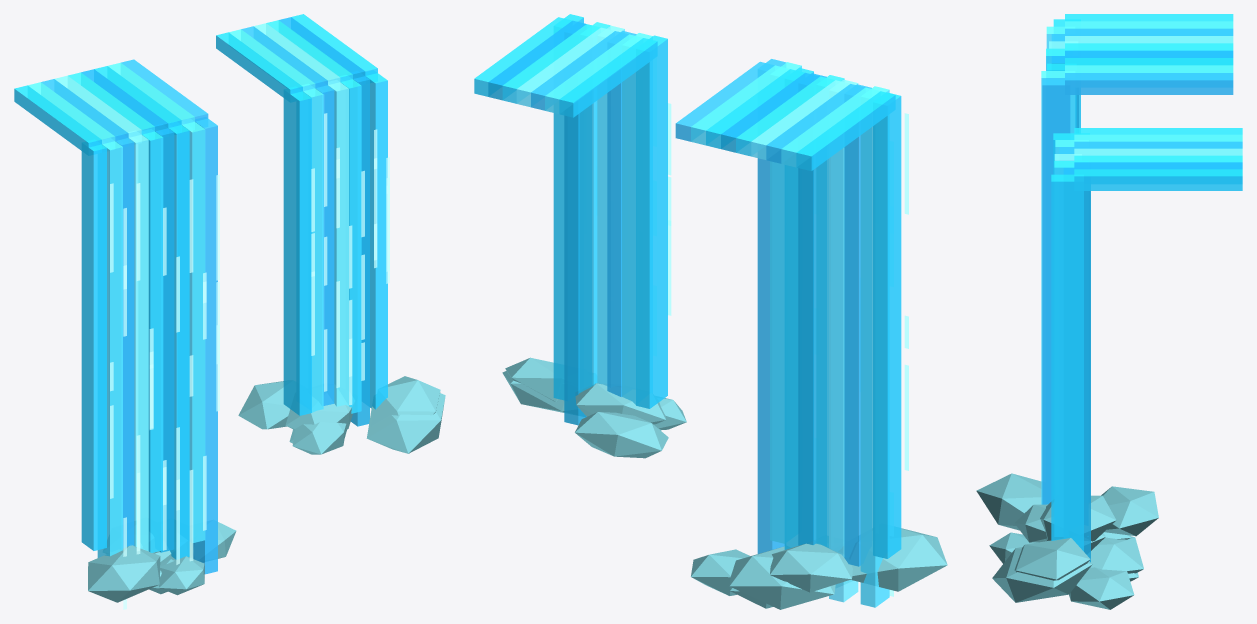
Rendered from cascade-waterfall-water.glb.
3 views of the same model, side by side, from view 1: azimuth 30°, elevation 25°; view 2: azimuth 150°, elevation 25°; view 3: azimuth 270°, elevation 25° (orthographic). The views are drawn at different scales.
Parts seen in each view (by area): view 1: Cascade_Waterfall; view 2: Cascade_Waterfall; view 3: Cascade_Waterfall.
Part boxes in pixels (x1=…): Cascade_Waterfall: x1=14, y1=14, x2=445, y2=609; Cascade_Waterfall: x1=474, y1=14, x2=947, y2=609; Cascade_Waterfall: x1=976, y1=14, x2=1242, y2=609.
Bounding box in the file's own units: 2.1 × 2.46 × 1.14.
